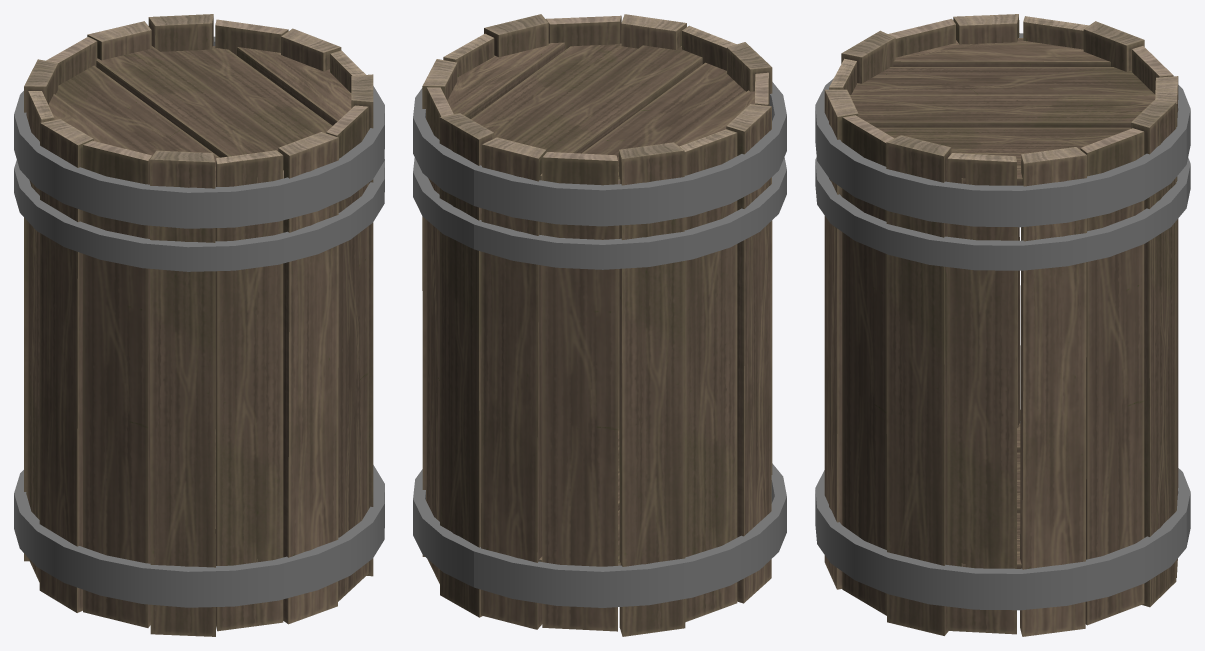
The model's file is SM_barrel_02.fbx.
3 renders of one model, left to right at view 1: azimuth 30°, elevation 25°; view 2: azimuth 150°, elevation 25°; view 3: azimuth 270°, elevation 25°, orthographic.
Parts seen in each view (by area): view 1: Object32608; view 2: Object32608; view 3: Object32608.
Part boxes in pixels (box(x1,y1,x2,y2)): Object32608: box(14, 14, 384, 636); Object32608: box(413, 14, 786, 636); Object32608: box(815, 14, 1190, 636).
Size of the model in its own units: 26.6 by 37.53 by 26.61.
